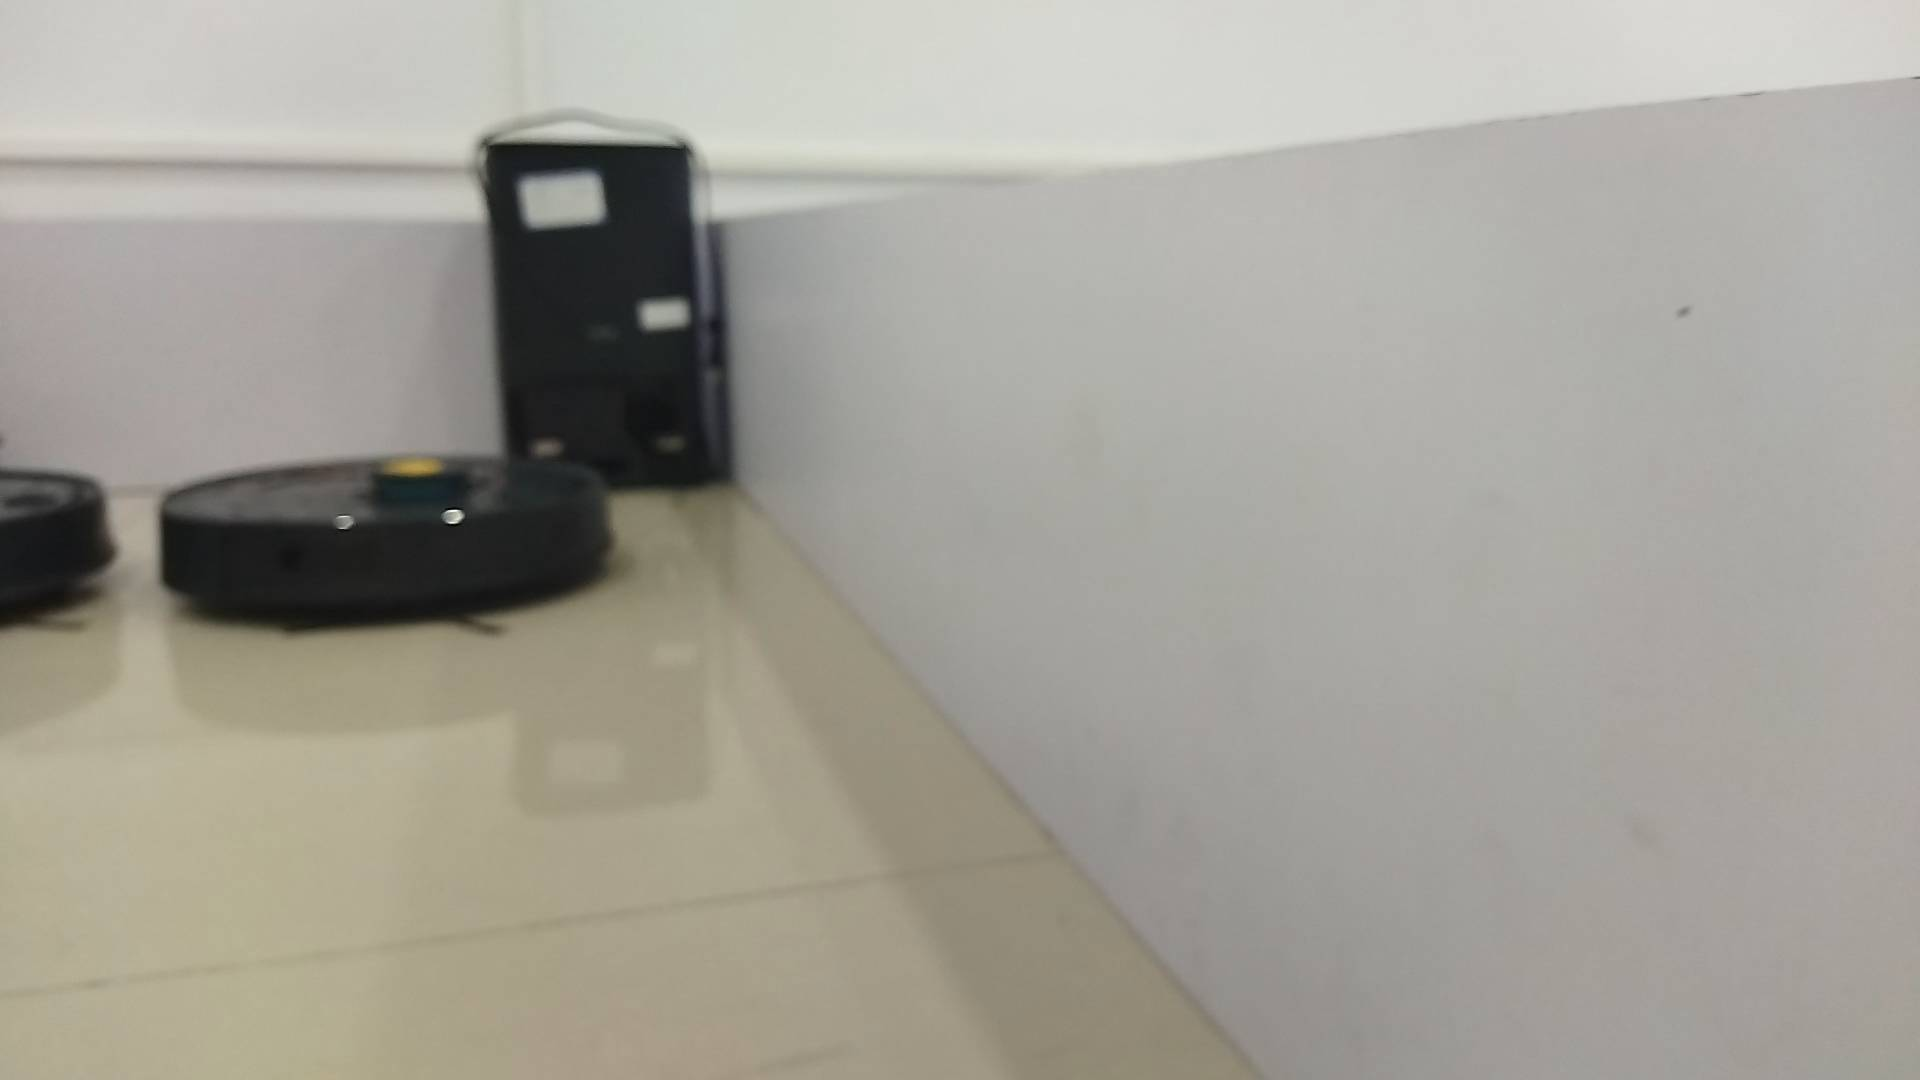dust collecting barrel: (484, 142, 731, 484)
